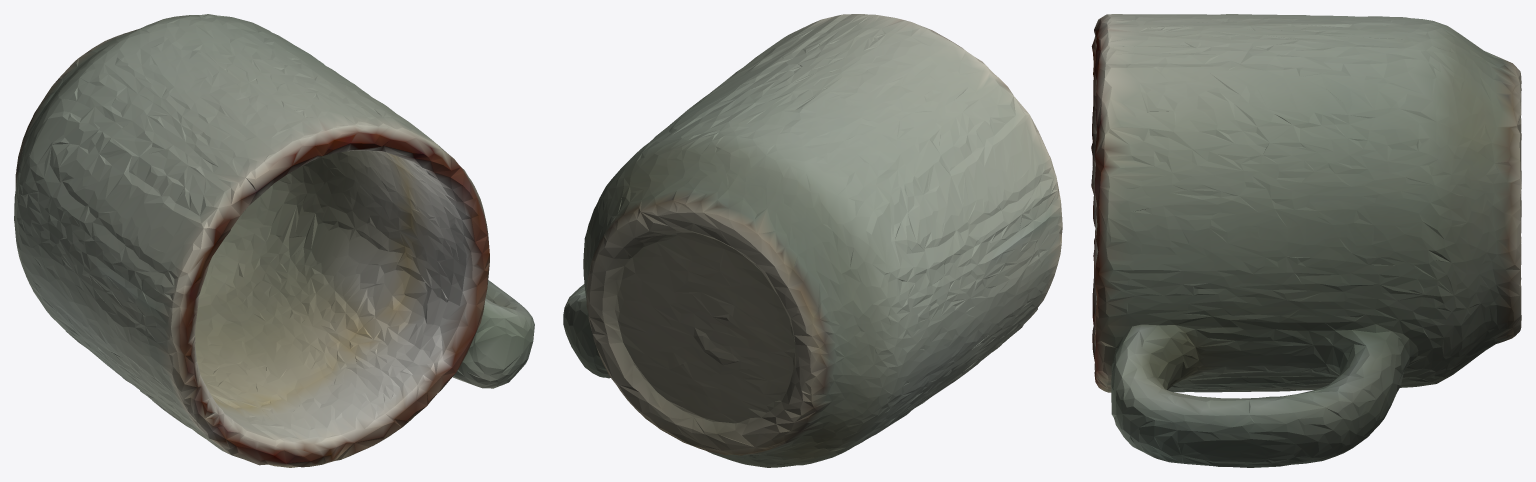
Rendered from mug_2.glb.
3 renders of one model, left to right at view 1: azimuth 30°, elevation 25°; view 2: azimuth 150°, elevation 25°; view 3: azimuth 270°, elevation 25°, orthographic. The views are drawn at different scales.
Parts seen in each view (by area): view 1: geometry_0; view 2: geometry_0; view 3: geometry_0.
Part boxes in pixels (box(x1,y1,x2,y2)): geometry_0: box(14, 14, 534, 467); geometry_0: box(563, 14, 1062, 467); geometry_0: box(1091, 14, 1521, 467).
Size of the model in its own units: 1 by 0.8018 by 0.9073.
